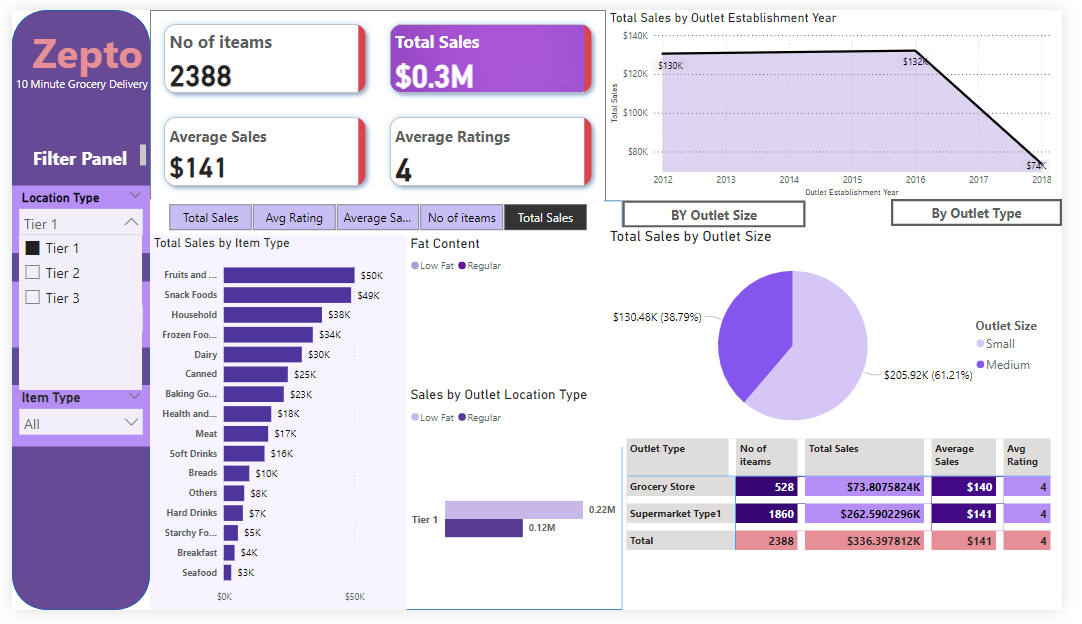

This screenshot's page, from the dashboard's own definition file:
{"tool":"powerbi","page":{"name":"Dashboard","canvas":[1400,800],"ordinal":0},"visuals":[{"type":"shape","box":[0,0,184,800],"z":0},{"type":"textbox","box":[102,14,82,68],"z":1000},{"type":"textbox","box":[0,81.7,278.3,45],"z":2000},{"type":"cardVisual","fields":{"Data":["BlinkIT Grocery Data.no.of Iteam","BlinkIT Grocery Data.total sales","BlinkIT Grocery Data.average sales","BlinkIT Grocery Data.Avg Rating"]},"box":[184,0,608,254],"z":3000},{"type":"shape","box":[184,254,630,546],"z":4000},{"type":"donutChart","title":"Fat Content","fields":{"Category":["BlinkIT Grocery Data.Item Fat Content"]},"box":[526,300,264,202],"z":5000},{"type":"slicer","fields":{"Values":["metrics.metrics"]},"box":[247.5,252.5,517.5,47.5],"z":6000},{"type":"clusteredBarChart","title":"Sales by Outlet Location Type","fields":{"Category":["BlinkIT Grocery Data.Outlet Location Type"],"Y":["Sum(BlinkIT Grocery Data.Sales)"],"Series":["BlinkIT Grocery Data.Item Fat Content"]},"box":[526,502,264,298],"z":7000},{"type":"clusteredBarChart","fields":{"Y":["BlinkIT Grocery Data.Total Sales"],"Category":["BlinkIT Grocery Data.Item Type"]},"box":[184,300,342,500],"z":8000},{"type":"lineChart","fields":{"Category":["BlinkIT Grocery Data.Outlet Establishment Year"],"Y":["BlinkIT Grocery Data.Total Sales"]},"box":[791.7,0,598.3,253.3],"z":9000},{"type":"actionButton","title":"Pie Chart","box":[814,252,244,36],"z":10000},{"type":"actionButton","box":[1172,252,228,36],"z":11000},{"type":"funnel","fields":{"Category":["BlinkIT Grocery Data.Outlet Size"],"Y":["BlinkIT Grocery Data.Total Sales"]},"box":[814,288,576,294],"z":13000},{"type":"pivotTable","fields":{"Rows":["BlinkIT Grocery Data.Outlet Type"],"Values":["BlinkIT Grocery Data.No of iteams","BlinkIT Grocery Data.Total Sales","BlinkIT Grocery Data.Average Sales","BlinkIT Grocery Data.Avg Rating"]},"box":[814,566,576,234],"z":14000},{"type":"slicer","fields":{"Values":["BlinkIT Grocery Data.Outlet Location Type"]},"box":[0,234,184,90],"z":15000},{"type":"slicer","fields":{"Values":["BlinkIT Grocery Data.Outlet Size"]},"box":[0,362,184,88],"z":16000},{"type":"slicer","fields":{"Values":["BlinkIT Grocery Data.Item Type"]},"box":[0,500,184,82],"z":17000},{"type":"textbox","box":[21.7,173.3,161.7,40],"z":18000},{"type":"textbox","box":[22,14,206,112],"z":19000}]}

Visuals, with their boxes in screenshot pixels (x1, y1, x2, y2), scaled from the page's 1400x800 canvas onto the 1082x624 screenshot:
shape: Rect(0, 0, 142, 623)
textbox: Rect(79, 11, 142, 64)
textbox: Rect(0, 64, 215, 99)
cardVisual - BlinkIT Grocery Data.no.of Iteam x BlinkIT Grocery Data.total sales: Rect(142, 0, 612, 198)
shape: Rect(142, 198, 629, 623)
"Fat Content" donutChart: Rect(407, 234, 611, 392)
slicer - metrics.metrics: Rect(191, 197, 591, 234)
"Sales by Outlet Location Type" clusteredBarChart: Rect(407, 392, 611, 623)
clusteredBarChart - BlinkIT Grocery Data.Total Sales x BlinkIT Grocery Data.Item Type: Rect(142, 234, 407, 623)
lineChart - BlinkIT Grocery Data.Outlet Establishment Year x BlinkIT Grocery Data.Total Sales: Rect(612, 0, 1074, 198)
"Pie Chart" actionButton: Rect(629, 197, 818, 225)
actionButton: Rect(906, 197, 1081, 225)
funnel - BlinkIT Grocery Data.Outlet Size x BlinkIT Grocery Data.Total Sales: Rect(629, 225, 1074, 454)
pivotTable - BlinkIT Grocery Data.Outlet Type x BlinkIT Grocery Data.No of iteams: Rect(629, 441, 1074, 623)
slicer - BlinkIT Grocery Data.Outlet Location Type: Rect(0, 183, 142, 253)
slicer - BlinkIT Grocery Data.Outlet Size: Rect(0, 282, 142, 351)
slicer - BlinkIT Grocery Data.Item Type: Rect(0, 390, 142, 454)
textbox: Rect(17, 135, 142, 166)
textbox: Rect(17, 11, 176, 98)
